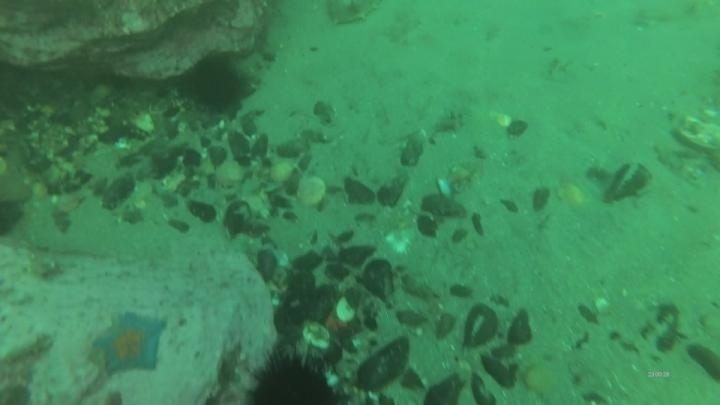echinus: (244, 348, 341, 404), (182, 52, 250, 117)
starfish: (92, 310, 169, 379)
